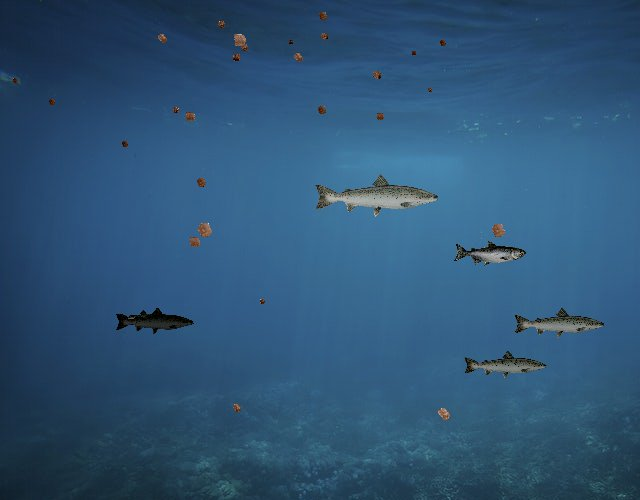Fish: (312, 172, 441, 218), (513, 306, 607, 340), (462, 349, 548, 380), (114, 307, 195, 336), (454, 241, 527, 267), (119, 309, 166, 326)
Pellet: (190, 215, 220, 244), (430, 401, 457, 428), (183, 231, 206, 254), (228, 399, 245, 417), (168, 103, 183, 118), (118, 137, 132, 151), (256, 296, 268, 308)
